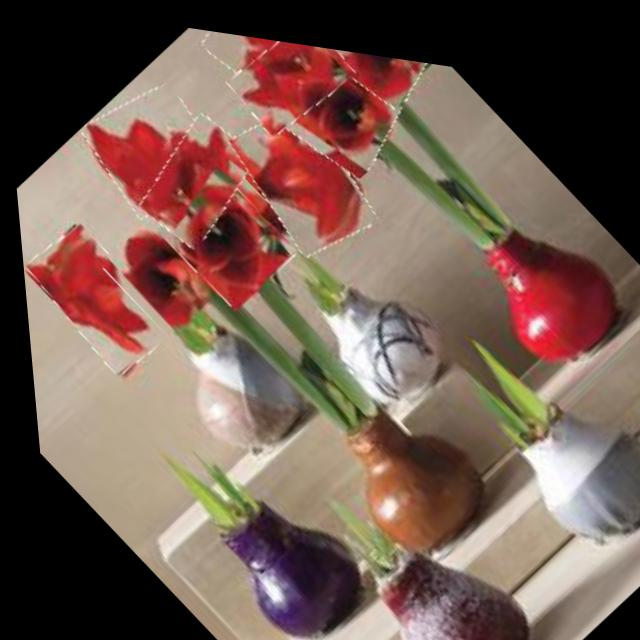Flower: (211, 76, 393, 266), (64, 54, 238, 235), (15, 210, 177, 383), (246, 29, 417, 188), (117, 93, 273, 257), (147, 153, 301, 314), (91, 202, 226, 342), (221, 26, 362, 142), (191, 22, 338, 104), (315, 37, 448, 111)
